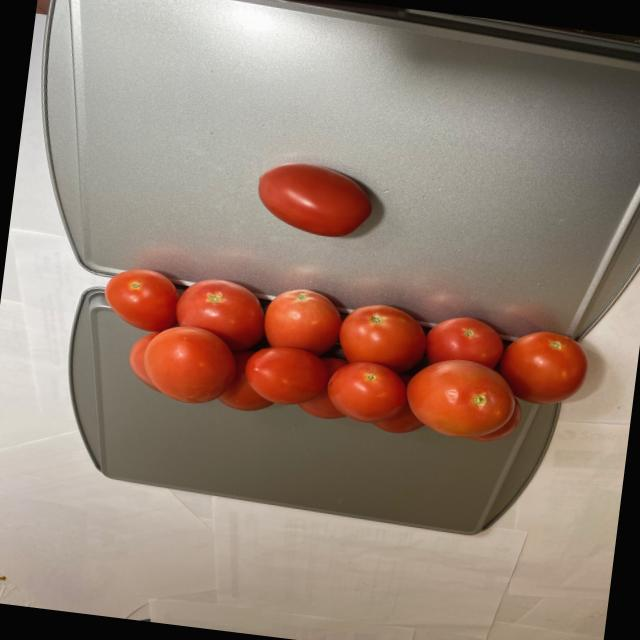tomato: (83, 264, 595, 455), (248, 156, 382, 244)
